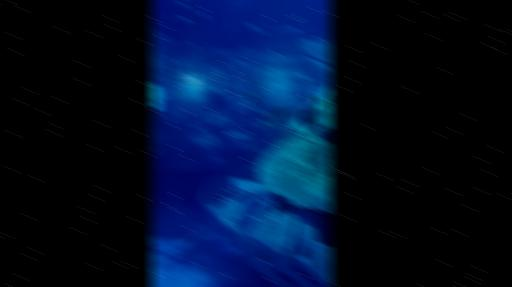Fish: (261, 106, 298, 129), (299, 96, 324, 130), (314, 209, 331, 244), (271, 194, 294, 213), (272, 26, 309, 35), (228, 190, 253, 199), (319, 126, 330, 142), (257, 251, 274, 261), (246, 92, 257, 104), (246, 22, 257, 32), (298, 245, 307, 256), (153, 110, 162, 120), (250, 150, 261, 158), (178, 16, 189, 22), (259, 28, 267, 36), (255, 78, 262, 86), (178, 2, 187, 8), (258, 112, 271, 116), (247, 118, 252, 127), (197, 14, 206, 18), (166, 15, 171, 21), (166, 25, 173, 29), (295, 16, 302, 20), (192, 42, 196, 48), (247, 169, 258, 171), (169, 40, 176, 42), (329, 94, 330, 100)
